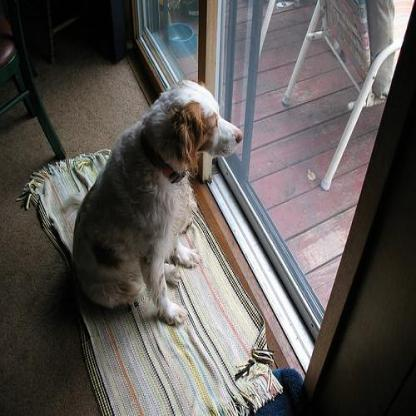Brittany_spaniel: (66, 76, 246, 328)
